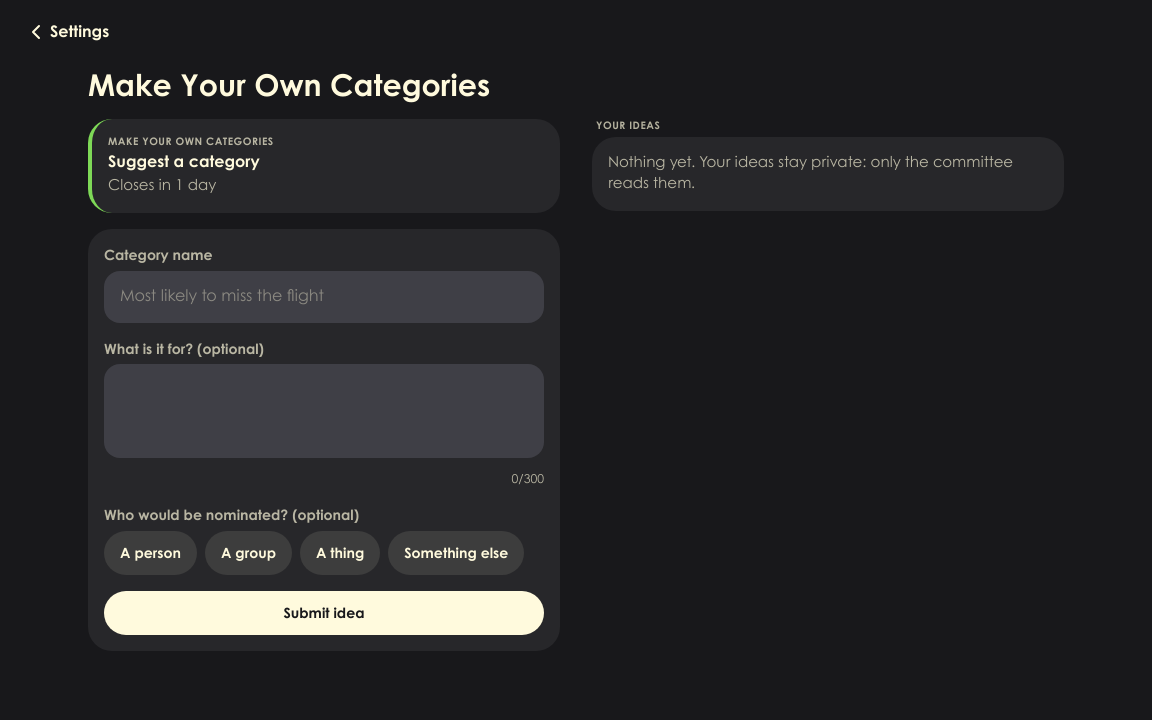
Test case: member view › explains the old database limit instead of crashing
The width and height of the screenshot is (1152, 720).
Expected: the form named "Suggest a category" is shown, [88,229,560,651]
Type "x" into the field labelled "Category name" at [324, 297], box [104,271,544,323]
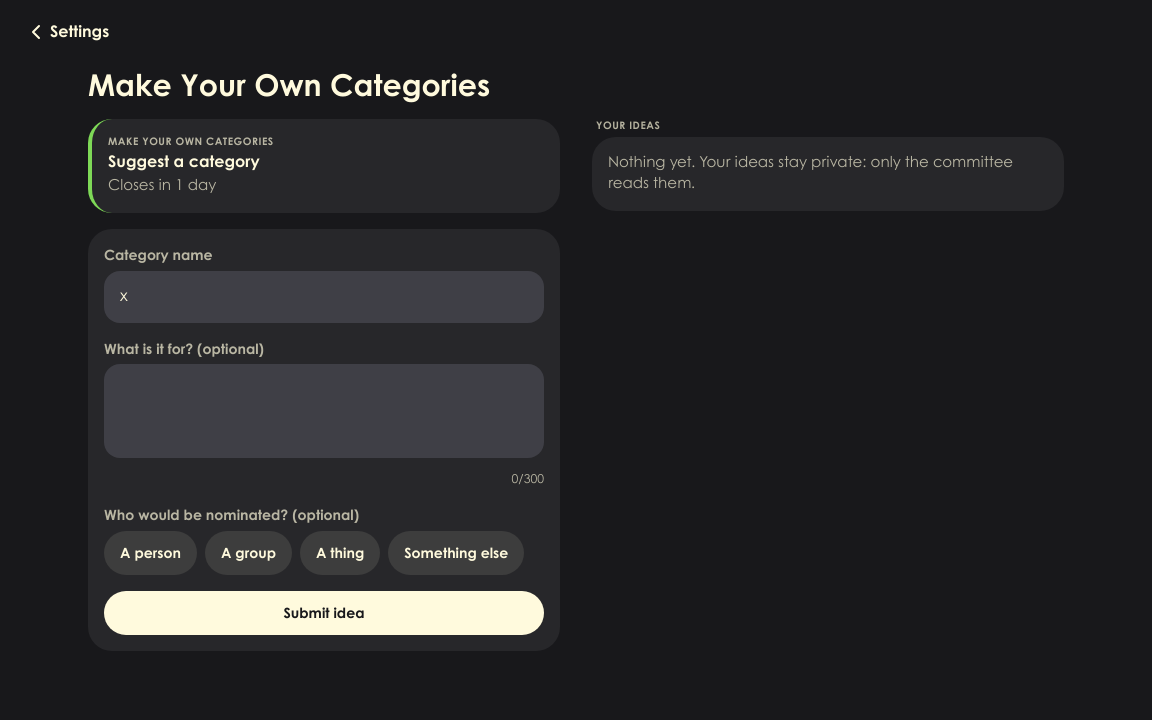
Click the button "Submit idea" at [324, 613], box [104,591,544,635]
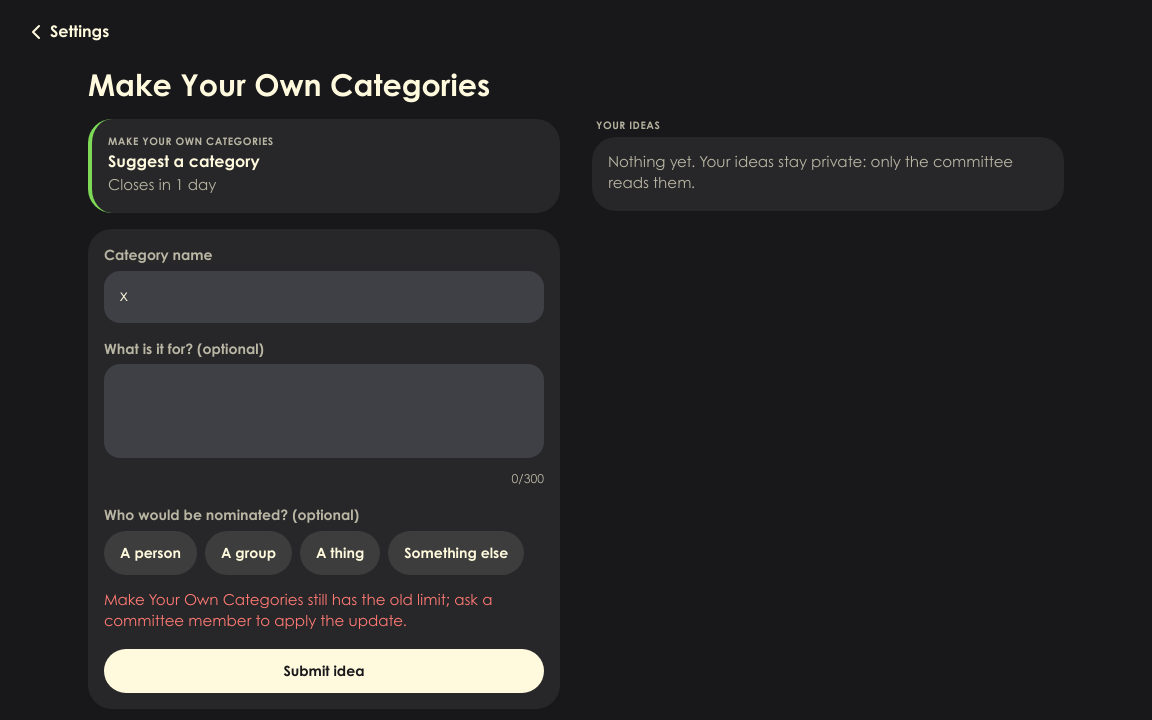
Expected: the message shows "old limit; ask a committee member", [104,594,492,629]
